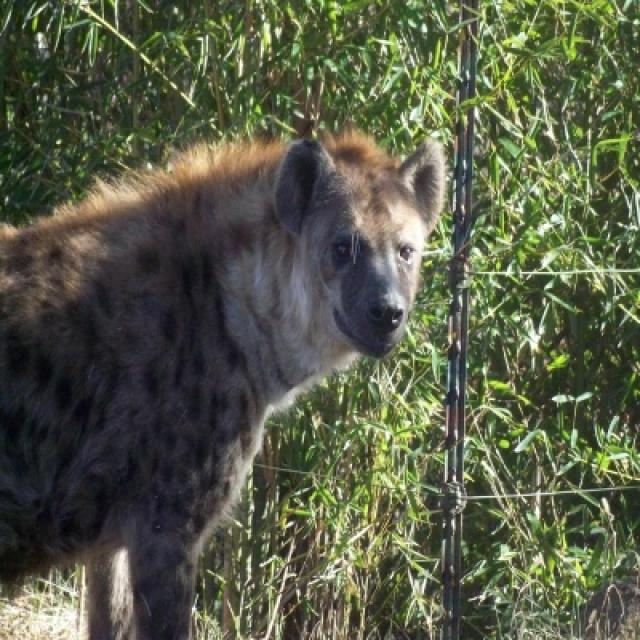hyena: (0, 130, 451, 638)
